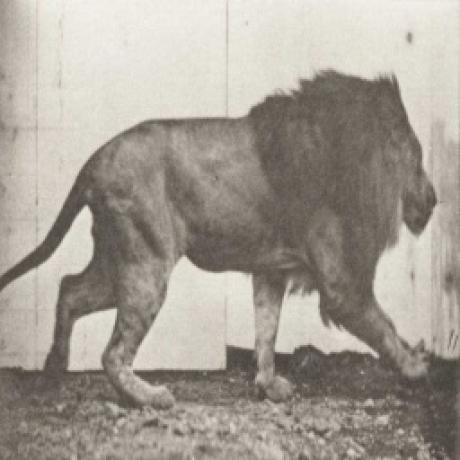Lion: (0, 67, 442, 410)
